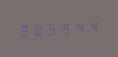five: (46, 20, 59, 36)
four: (74, 19, 87, 35), (88, 18, 101, 34)
nine: (60, 19, 73, 36), (17, 22, 30, 38)
zero: (31, 21, 44, 37)
